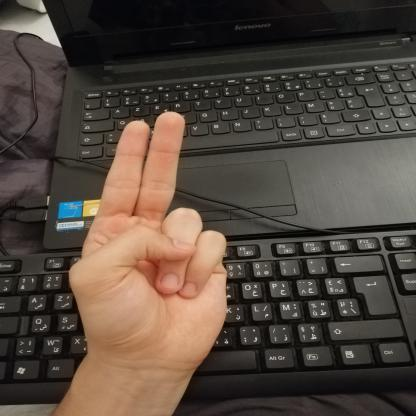TA: (52, 98, 244, 382)
